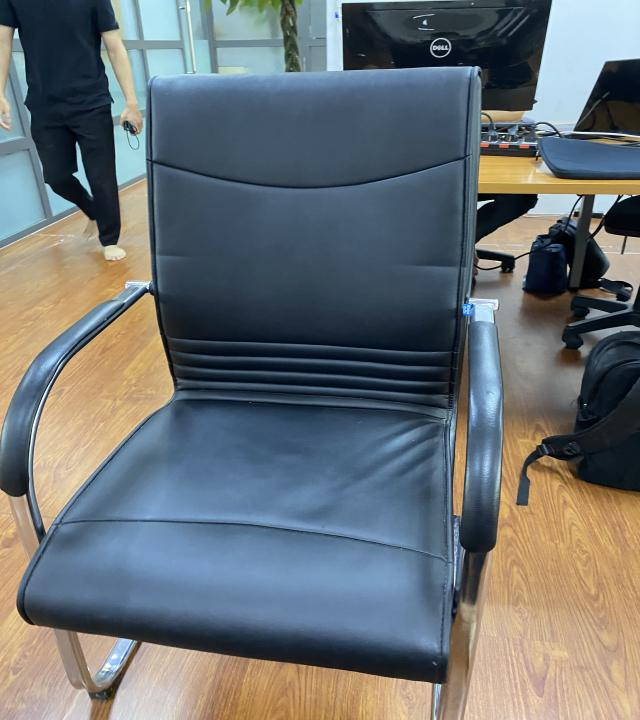SS_03: (0, 61, 503, 720)
